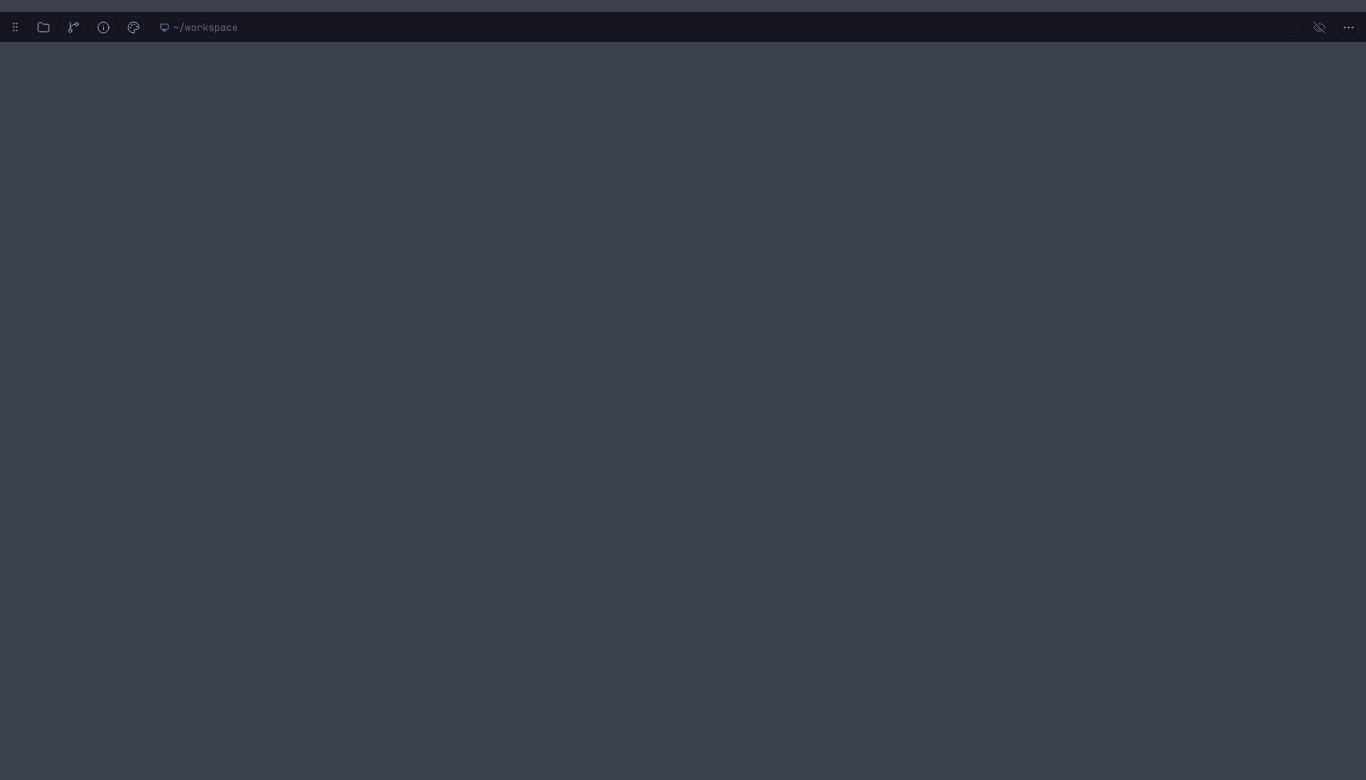
Test: TerminalHeader › Info panel — pane identity and cwd › shows paneName in Tab row when paneInfo.paneName is set
Click the button titled "Info" at (103, 27), box x1=89 y1=13 x2=117 y2=41
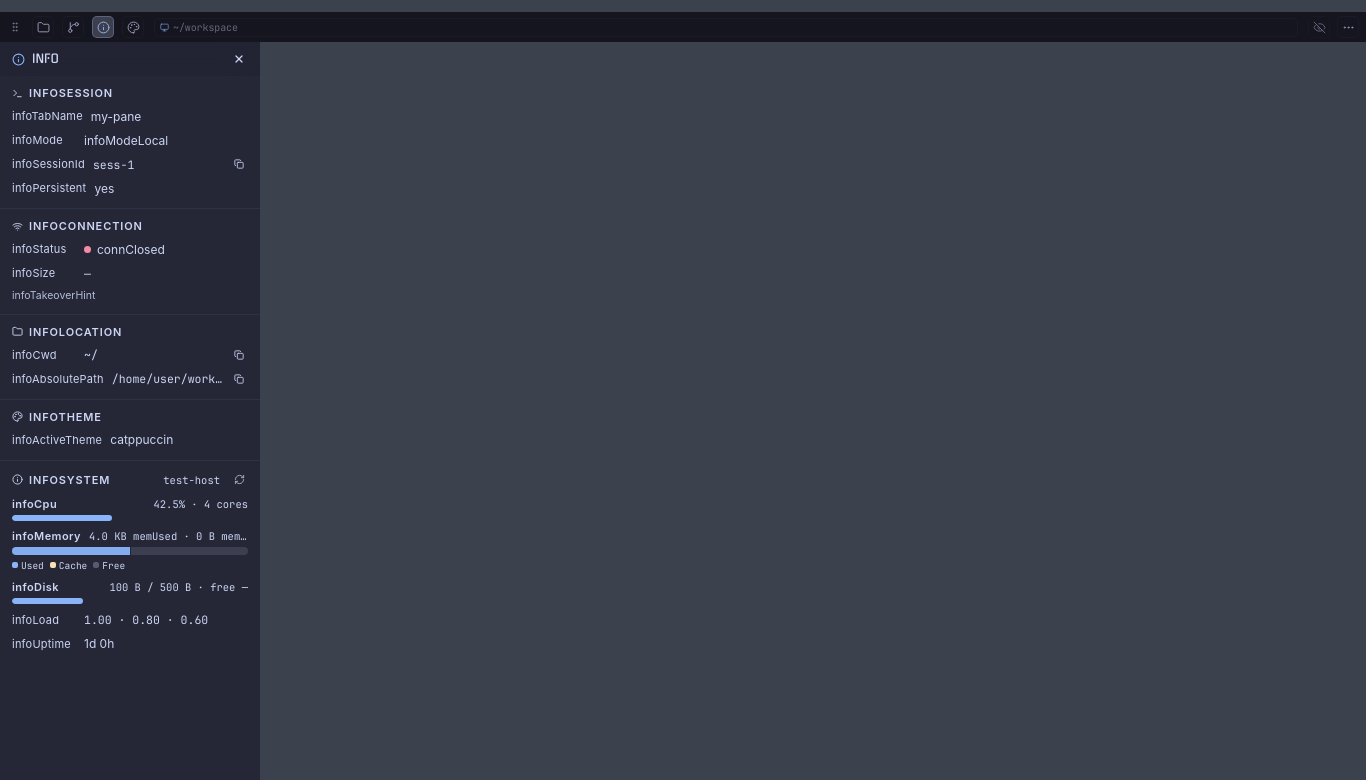
Check: the text "my-pane" is shown, box x1=91 y1=108 x2=141 y2=124
